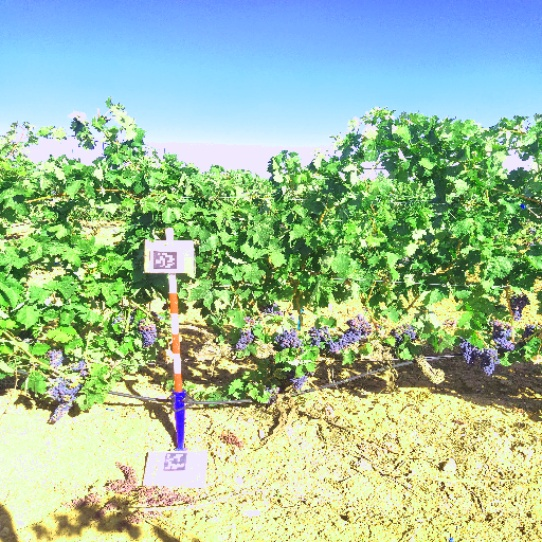QR: (150, 250, 179, 270), (163, 452, 187, 472)
